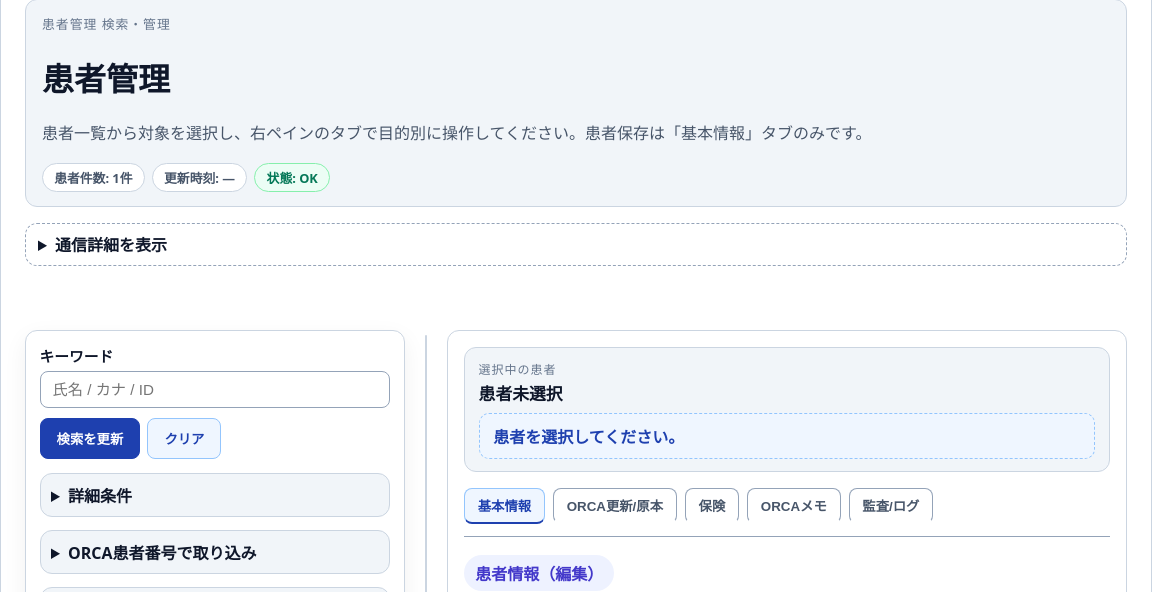
PatientsPage audit filters › date/limit フィルタと無効範囲エラーを反映する
Click the tab "監査/ログ".
click(891, 506)  # box 848,488 -> 933,524
(page scrolled)
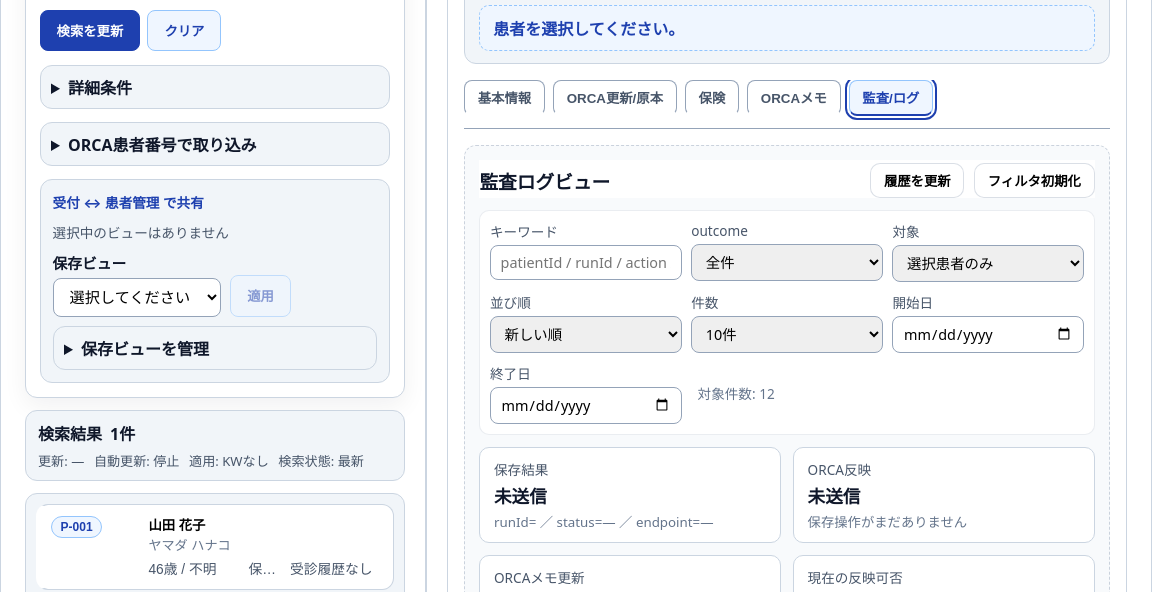
Expected: the text "対象件数: 12" is shown, 698,384 -> 775,403
Type "2025-12-03" into the date field labelled "開始日".
click(988, 334); type("2025-12-03")  # box 892,316 -> 1084,353
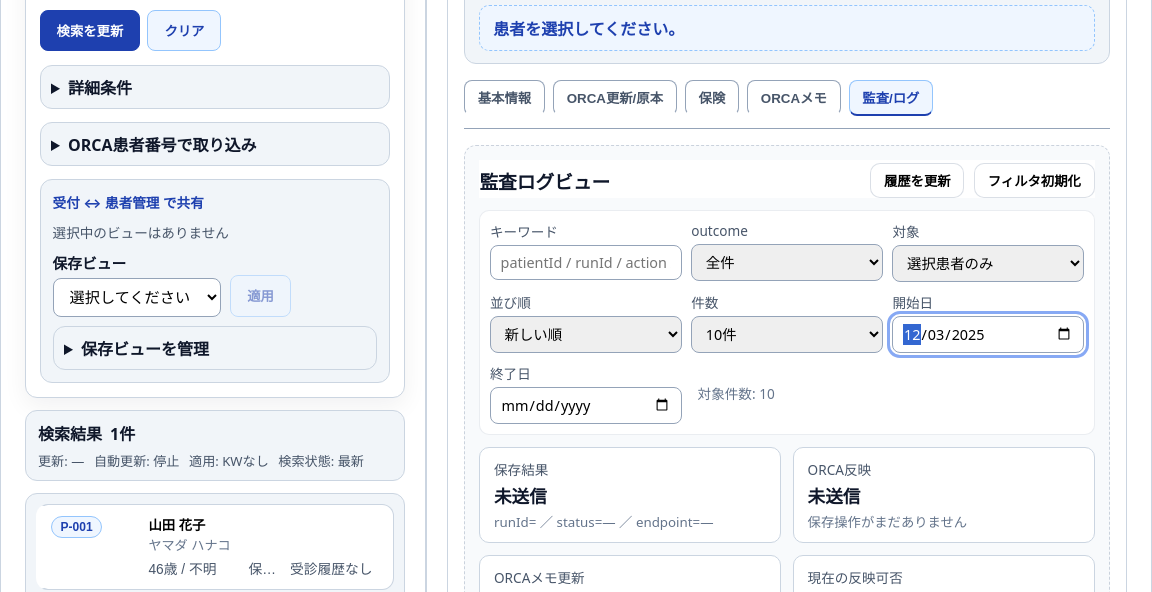
Type "2025-12-03" into the date field labelled "終了日".
click(586, 405); type("2025-12-03")  # box 490,387 -> 682,424
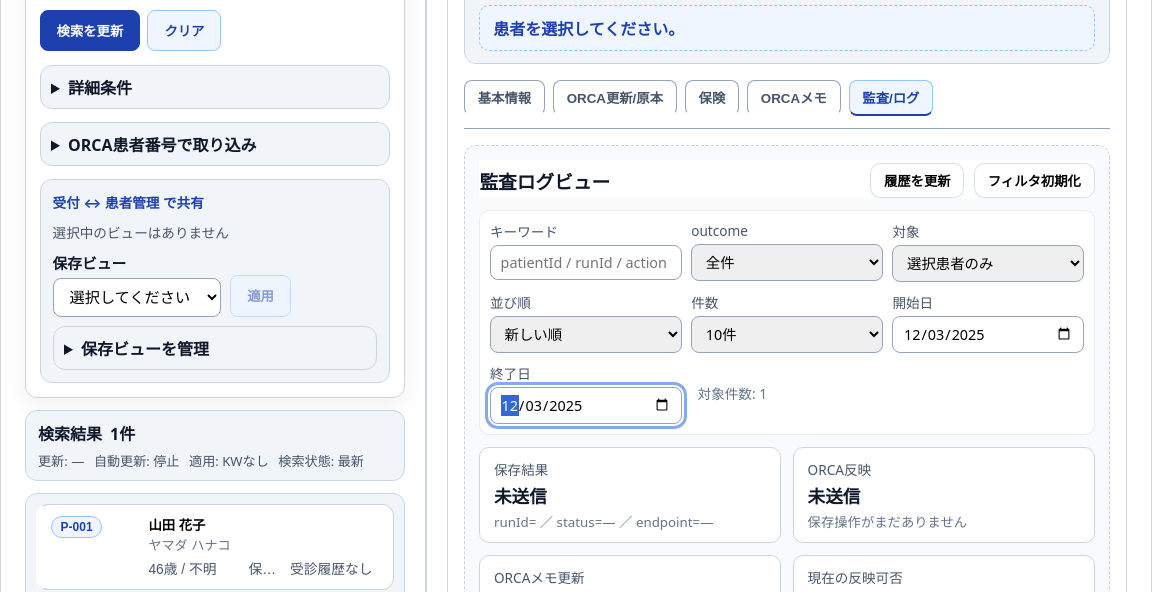
Expected: the text "対象件数: 1" is shown, 698,384 -> 767,403
Type "2025-12-10" into the date field labelled "開始日".
click(988, 334); type("2025-12-10")  # box 892,316 -> 1084,353
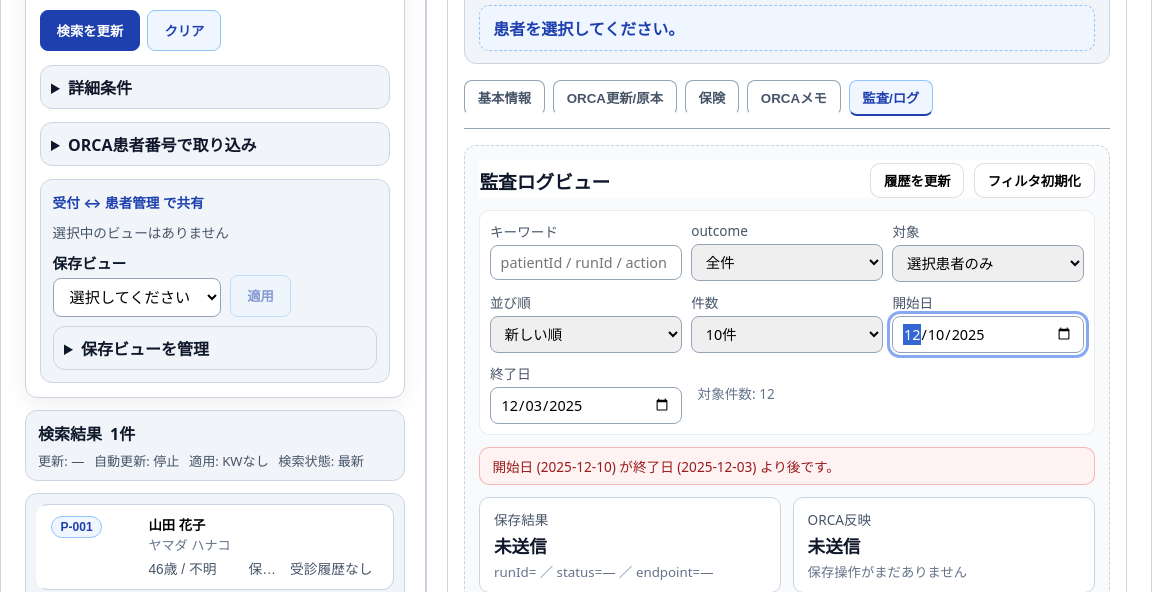
Type "2025-12-05" into the date field labelled "終了日".
click(586, 405); type("2025-12-05")  # box 490,387 -> 682,424
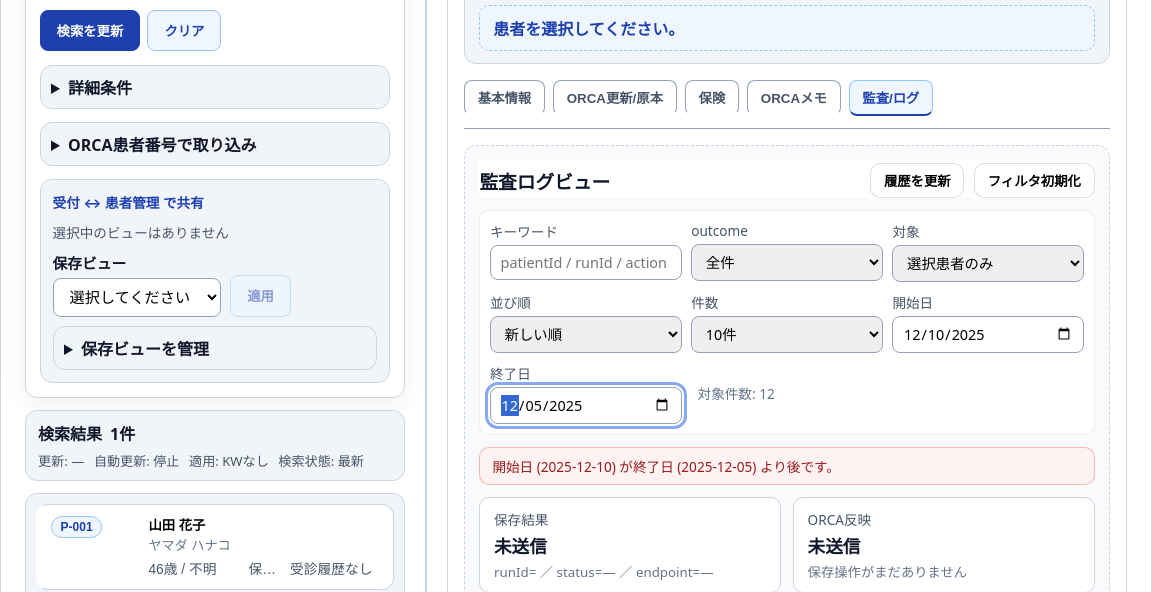
Expected: the text "開始日 (2025-12-10) が終了日 (2025-12-05) より後です。" is shown, 479,447 -> 1095,485
